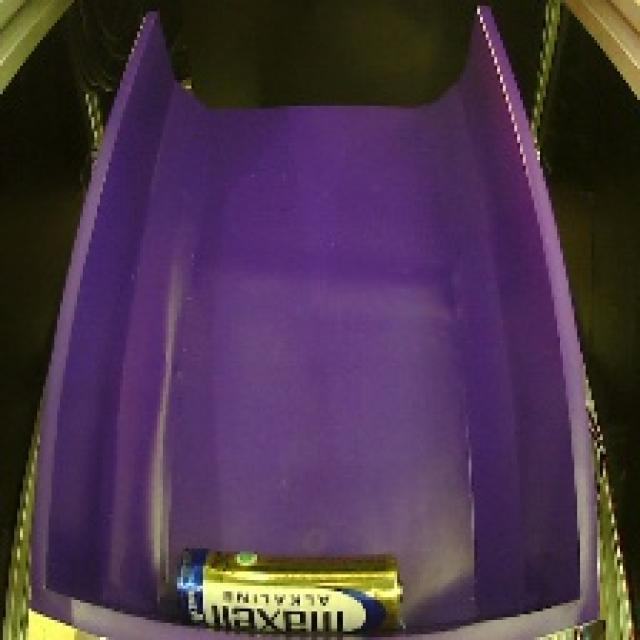battery: (161, 532, 411, 640)
